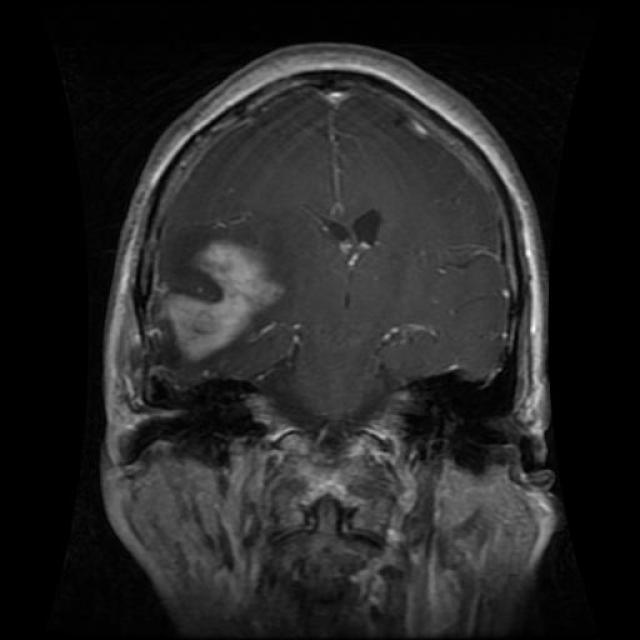glioma: (158, 240, 298, 368)
